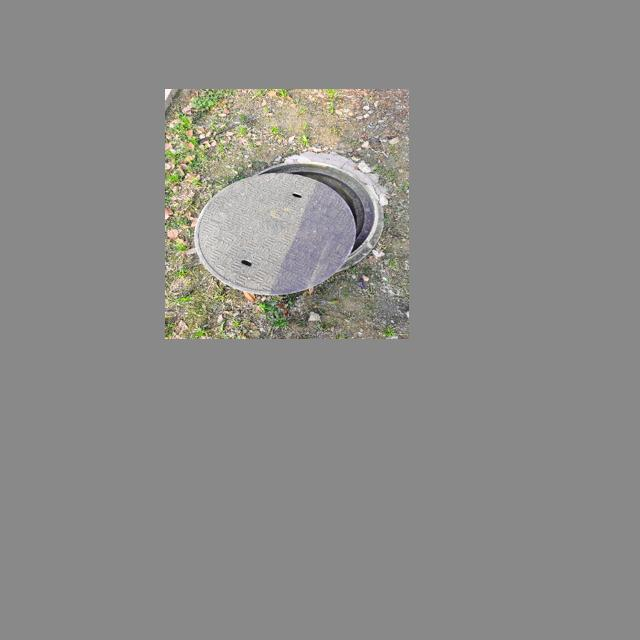uncovered: (194, 160, 380, 294)
